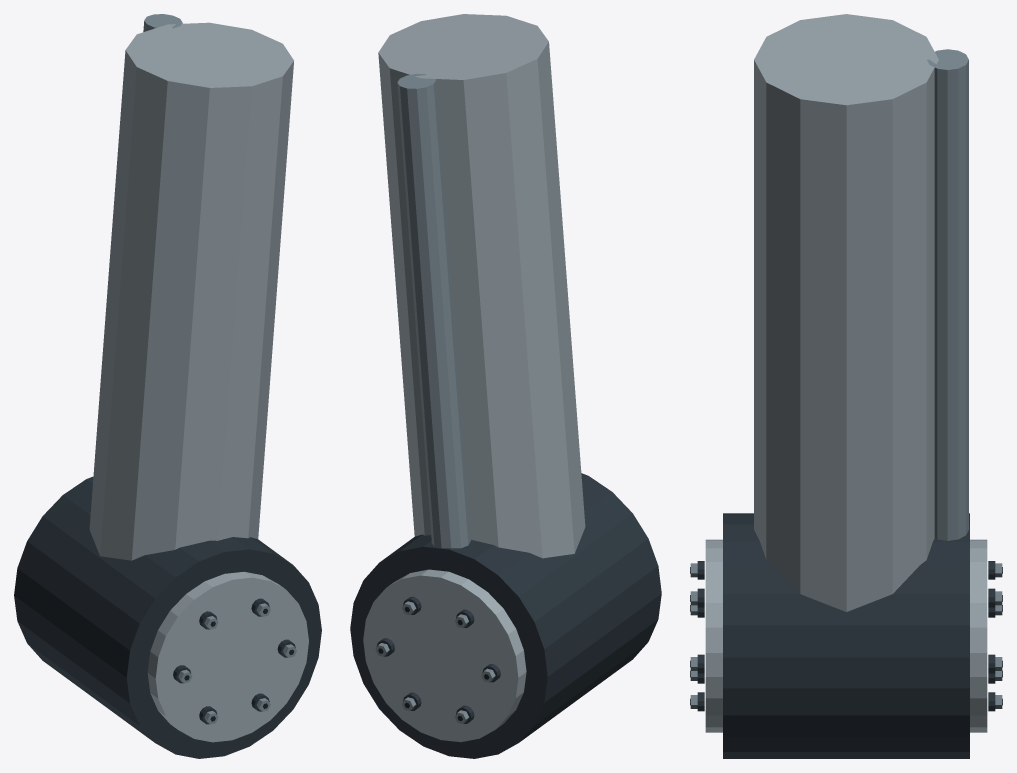
The model's file is SM_Lab_RobotArm__Link_0.fbx.
The picture shows the model from 3 angles, left to right: view 1: azimuth 30°, elevation 25°; view 2: azimuth 150°, elevation 25°; view 3: azimuth 270°, elevation 25°; orthographic projection. The views are drawn at different scales.
Visible parts, largest first — view 1: SM_Lab_RobotArm__Link_0; view 2: SM_Lab_RobotArm__Link_0; view 3: SM_Lab_RobotArm__Link_0.
Part boxes in pixels (x1,y1,x2,y2): SM_Lab_RobotArm__Link_0: [14, 14, 321, 758]; SM_Lab_RobotArm__Link_0: [350, 14, 661, 758]; SM_Lab_RobotArm__Link_0: [690, 14, 1002, 758].
Size of the model in its own units: 30.47 by 35.5 by 89.84.
